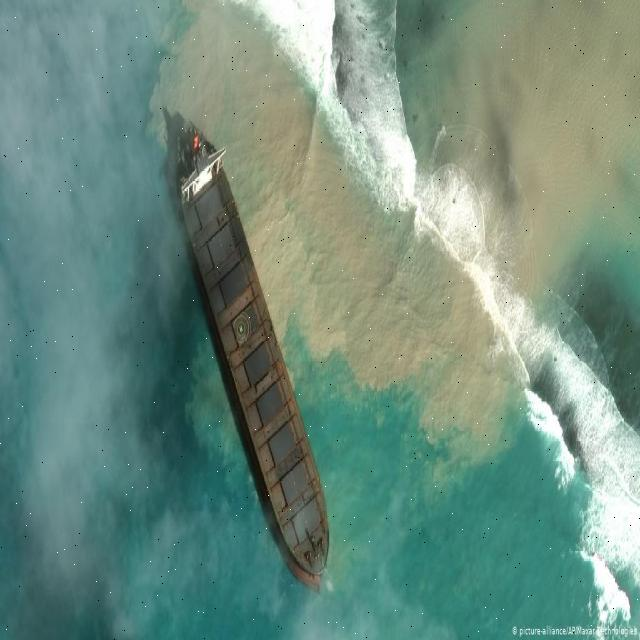truecolor: (151, 1, 530, 461), (396, 0, 640, 431)
